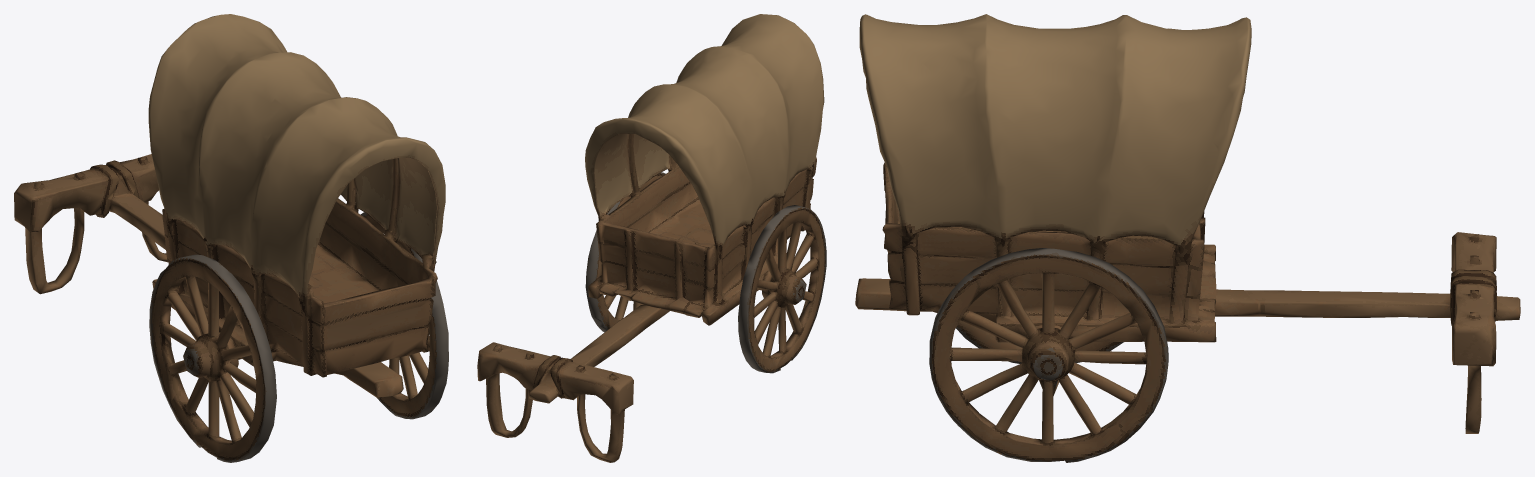
File: carreta.glb
The picture shows the model from 3 angles, left to right: view 1: azimuth 30°, elevation 25°; view 2: azimuth 150°, elevation 25°; view 3: azimuth 270°, elevation 25°; orthographic projection. The views are drawn at different scales.
Visible parts, largest first — view 1: tripo_node_5a83fbec-1bf7-4ab1-869a-25fe50f7a63a; view 2: tripo_node_5a83fbec-1bf7-4ab1-869a-25fe50f7a63a; view 3: tripo_node_5a83fbec-1bf7-4ab1-869a-25fe50f7a63a.
Boxes of the visible parts, bbox=[...] form: tripo_node_5a83fbec-1bf7-4ab1-869a-25fe50f7a63a: bbox=[14, 14, 448, 462]; tripo_node_5a83fbec-1bf7-4ab1-869a-25fe50f7a63a: bbox=[477, 14, 826, 462]; tripo_node_5a83fbec-1bf7-4ab1-869a-25fe50f7a63a: bbox=[855, 14, 1520, 462].
Bounding box in the file's own units: 0.6795 × 1 × 1.54.
Materials: 1 (1 with a texture image).
